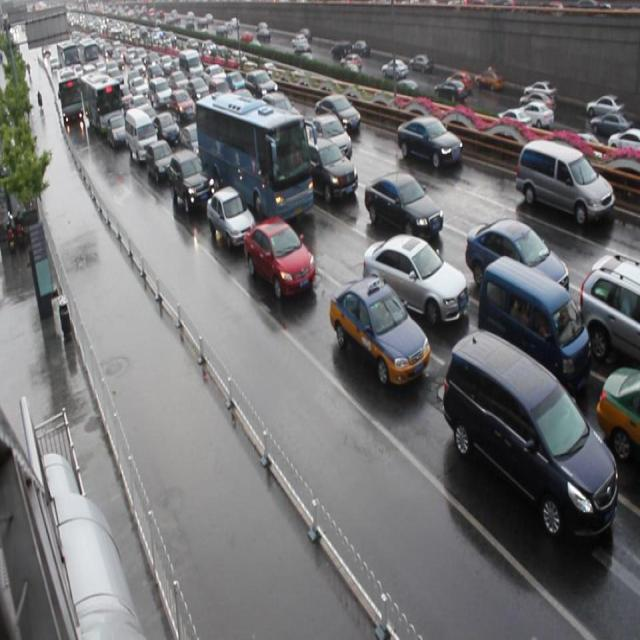car: (329, 274, 429, 384), (363, 232, 468, 327), (464, 218, 568, 300), (577, 252, 640, 362), (242, 215, 315, 298), (364, 169, 441, 236), (594, 370, 640, 461), (396, 115, 461, 169), (304, 136, 356, 202), (205, 182, 255, 245), (170, 148, 213, 216), (307, 119, 352, 170), (315, 92, 360, 133), (178, 120, 207, 160), (148, 140, 175, 180), (154, 110, 180, 144)
truck: (442, 328, 617, 540), (477, 259, 589, 386), (514, 138, 614, 223)
van: (194, 92, 313, 220)
